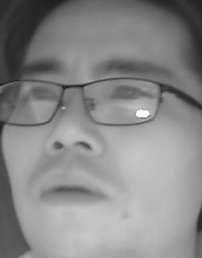eye: (107, 83, 148, 103)
glass: (84, 76, 160, 125), (1, 78, 65, 126)
mouth: (36, 164, 108, 209)
